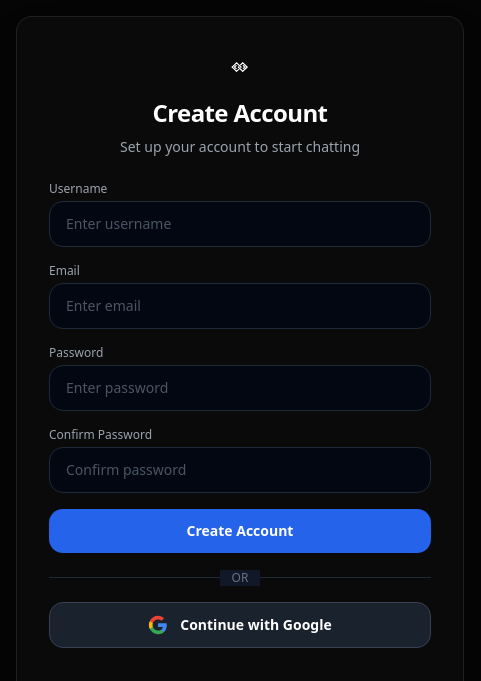
it: Registration page › requires a password
The width and height of the screenshot is (481, 681).
Type "alice" into the field with placeholder "Enter username" at (240, 224), box x1=49 y1=201 x2=431 y2=247
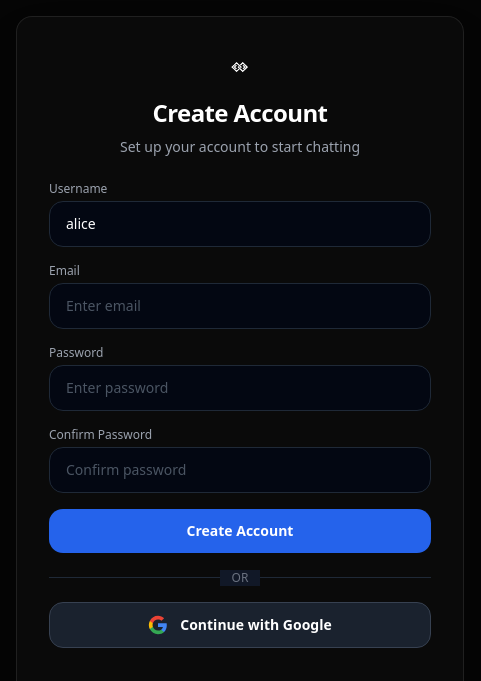
Type "newuser@example.com" into the field with placeholder "Enter email" at (240, 306), box x1=49 y1=283 x2=431 y2=329
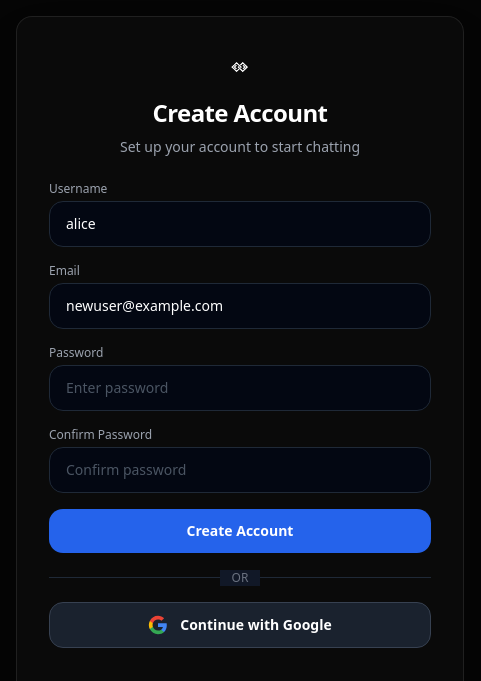
Submit the form with placeholder "Enter username", box x1=49 y1=181 x2=431 y2=553
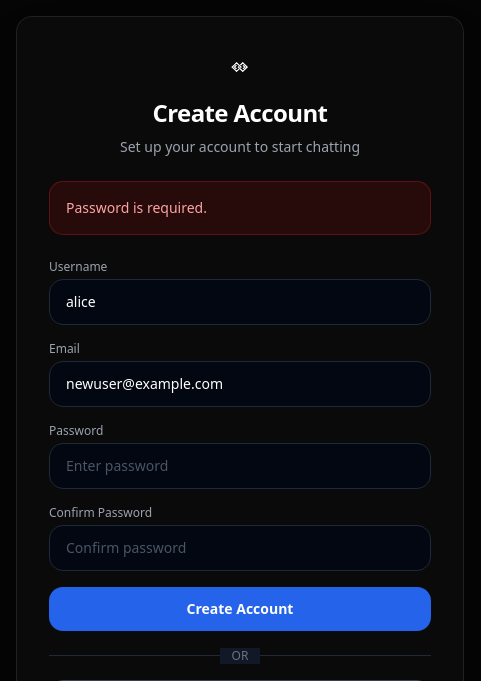
Now the text "Password is required." is shown, box x1=49 y1=181 x2=431 y2=235
